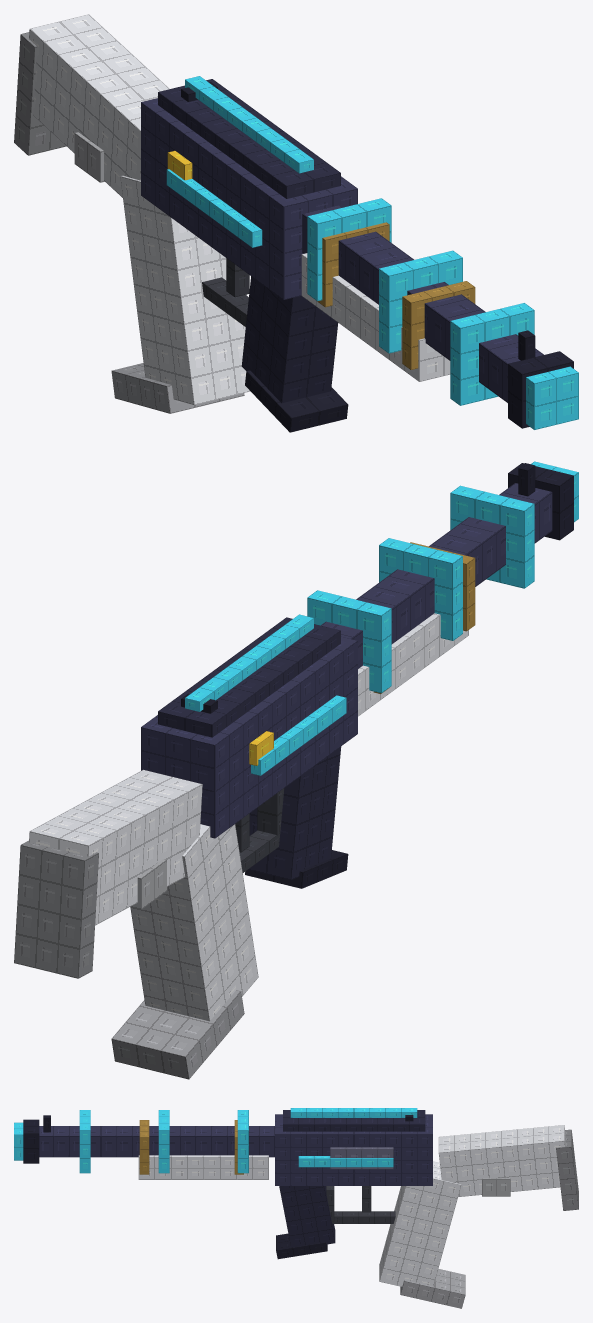
The picture shows the model from 3 angles, top to bottom: view 1: azimuth 30°, elevation 25°; view 2: azimuth 150°, elevation 25°; view 3: azimuth 270°, elevation 25°; orthographic projection. The views are drawn at different scales.
Parts seen in each view (by area): view 1: W17; view 2: W17; view 3: W17.
Boxes of the visible parts, x1,y1,x2,y2 form: W17: (14, 14, 578, 432); W17: (14, 461, 578, 1079); W17: (14, 1108, 578, 1308).
Bounding box in the file's own units: 0.38 × 1.32 × 3.57.
Materials: 1 (1 with a texture image).
